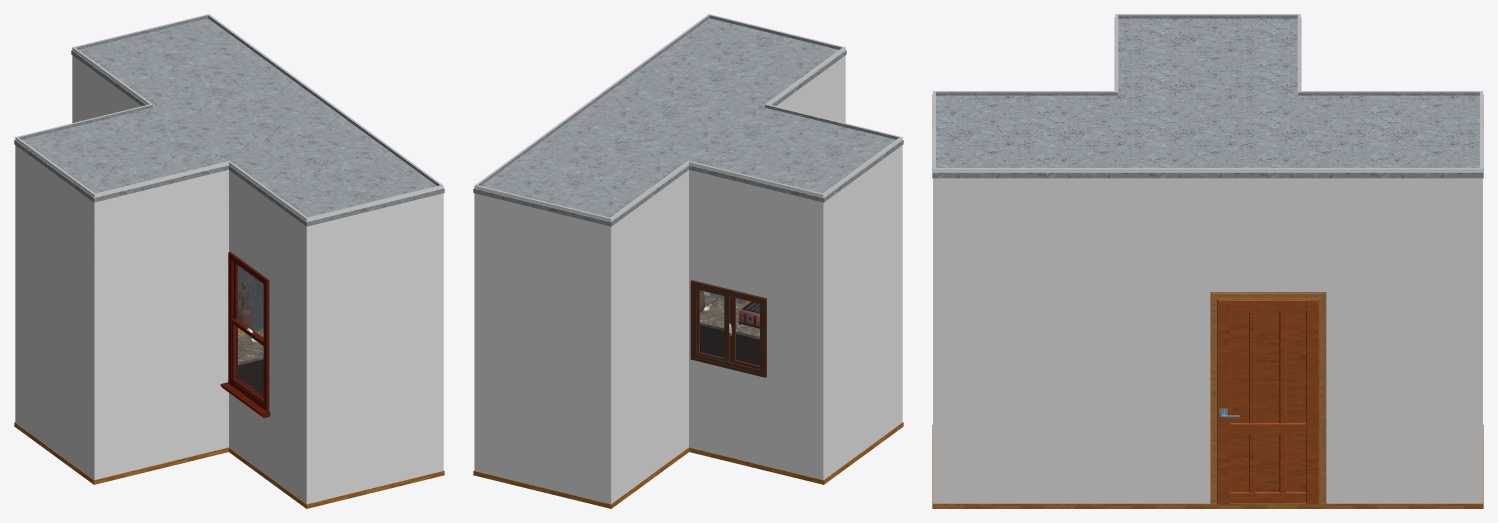
The model's file is ProcTHOR-Train-121.glb.
3 renders of one model, left to right at view 1: azimuth 30°, elevation 25°; view 2: azimuth 150°, elevation 25°; view 3: azimuth 270°, elevation 25°, orthographic. The views are drawn at different scales.
Parts seen in each view (by area): view 1: Ceiling#room|2|c, WallInside#wall|exterior|0.00|4.92|1.64|4.92, WallInside#wall|exterior|1.64|3.28|3.28|3.28, WallInside#wall|exterior|3.28|1.64|3.28|3.28, WallInside#wall|exterior|1.64|3.28|1.64|4.92, Window_Hung_32x60, WallInside#wall|exterior|1.64|0.00|1.64|1.64, Floor#room|2|f, WallInside#wall|2|0.00|0.00|0.00|4.92, Countertop_I_8x2, WallInside#wall|exterior|0.00|0.00|0.00|4.92, WallInside#wall|2|1.64|1.64|3.28|1.64 (+1 smaller); view 2: Ceiling#room|2|c, WallInside#wall|exterior|0.00|0.00|1.64|0.00, WallInside#wall|exterior|1.64|1.64|3.28|1.64, WallInside#wall|exterior|3.28|1.64|3.28|3.28, WallInside#wall|exterior|1.64|0.00|1.64|1.64, Window_Slider_36x36, WallInside#wall|exterior|1.64|3.28|1.64|4.92, Countertop_I_8x2, Floor#room|2|f, WallInside#wall|2|0.00|0.00|0.00|4.92, WallInside#wall|2|0.00|4.92|1.64|4.92, WallInside#wall|exterior|0.00|0.00|0.00|4.92 (+1 smaller); view 3: WallInside#wall|exterior|0.00|0.00|0.00|4.92, Ceiling#room|2|c, Doorway_10, Floor#room|2|f, WallInside#wall|2|3.28|1.64|3.28|3.28, WallInside#wall|2|1.64|0.00|1.64|1.64, WallInside#wall|2|1.64|3.28|1.64|4.92.
Boxes of the visible parts, <box> form: Ceiling#room|2|c: <box>14,18,444,226</box>; WallInside#wall|exterior|0.00|4.92|1.64|4.92: <box>307,185,443,503</box>; WallInside#wall|exterior|1.64|3.28|3.28|3.28: <box>94,161,228,479</box>; WallInside#wall|exterior|3.28|1.64|3.28|3.28: <box>15,137,94,479</box>; WallInside#wall|exterior|1.64|3.28|1.64|4.92: <box>228,161,306,503</box>; Window_Hung_32x60: <box>220,252,270,417</box>; WallInside#wall|exterior|1.64|0.00|1.64|1.64: <box>72,47,151,122</box>; Floor#room|2|f: <box>14,327,444,508</box>; WallInside#wall|2|0.00|0.00|0.00|4.92: <box>207,14,441,330</box>; Countertop_I_8x2: <box>238,328,263,395</box>; WallInside#wall|exterior|0.00|0.00|0.00|4.92: <box>208,14,443,470</box>; WallInside#wall|2|1.64|1.64|3.28|1.64: <box>16,104,152,139</box>; Ceiling#room|2|c: <box>473,18,903,226</box>; WallInside#wall|exterior|0.00|0.00|1.64|0.00: <box>474,185,610,503</box>; WallInside#wall|exterior|1.64|1.64|3.28|1.64: <box>689,161,823,479</box>; WallInside#wall|exterior|3.28|1.64|3.28|3.28: <box>823,137,902,479</box>; WallInside#wall|exterior|1.64|0.00|1.64|1.64: <box>610,161,689,503</box>; Window_Slider_36x36: <box>690,280,766,377</box>; WallInside#wall|exterior|1.64|3.28|1.64|4.92: <box>766,47,845,122</box>; Countertop_I_8x2: <box>700,295,759,365</box>; Floor#room|2|f: <box>473,422,903,508</box>; WallInside#wall|2|0.00|0.00|0.00|4.92: <box>476,14,710,296</box>; WallInside#wall|2|0.00|4.92|1.64|4.92: <box>708,14,844,304</box>; WallInside#wall|exterior|0.00|0.00|0.00|4.92: <box>474,14,708,470</box>; WallInside#wall|exterior|0.00|0.00|0.00|4.92: <box>933,168,1482,503</box>; Ceiling#room|2|c: <box>932,17,1483,178</box>; Doorway_10: <box>1210,292,1326,504</box>; Floor#room|2|f: <box>932,350,1483,508</box>; WallInside#wall|2|3.28|1.64|3.28|3.28: <box>1116,14,1299,349</box>; WallInside#wall|2|1.64|0.00|1.64|1.64: <box>1298,91,1482,95</box>; WallInside#wall|2|1.64|3.28|1.64|4.92: <box>936,91,1117,95</box>.
Size of what is drawn, in the model's own units: 3.42 by 3.37 by 4.96.
97 materials, 41 textured.
